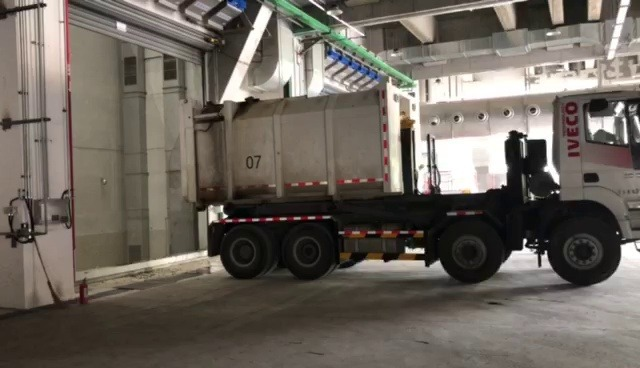truck: (168, 76, 639, 290)
